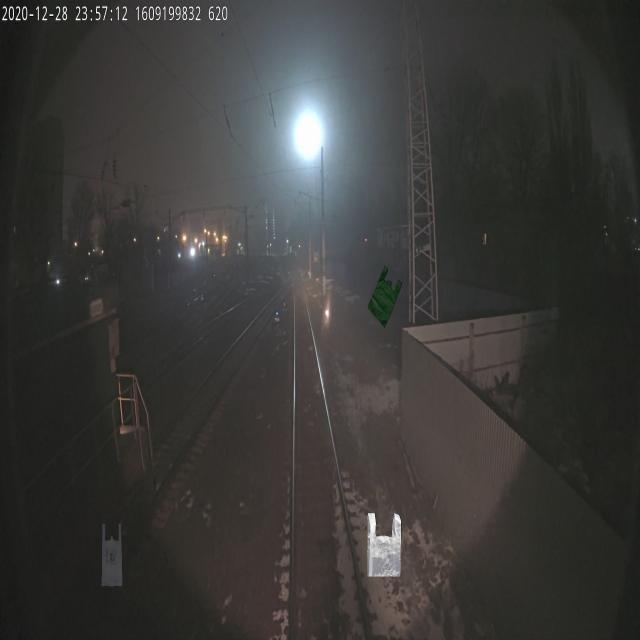plastic bag: (367, 265, 402, 329), (367, 512, 401, 576), (101, 524, 122, 588)
